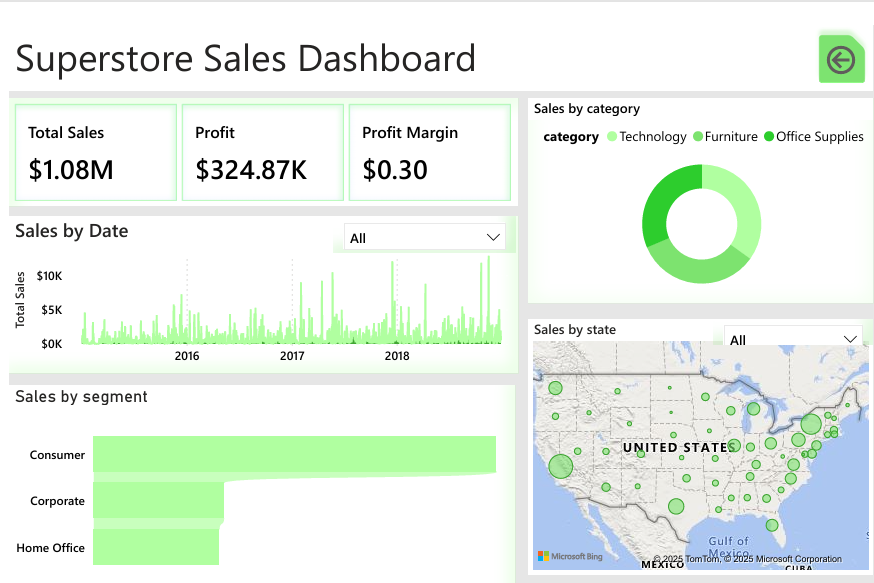

This screenshot's page, from the dashboard's own definition file:
{"tool":"powerbi","page":{"name":"Sales Analysis","canvas":[1280,720],"ordinal":0},"visuals":[{"type":"cardVisual","fields":{"Data":["Measuretable.Total Sales","Measuretable.Profit","Measuretable.Profit Margin"]},"box":[0,73.3,508.9,107.8],"z":0},{"type":"lineChart","title":"Sales by Date","fields":{"Y":["Measuretable.Total Sales"],"Category":["DateTable.Date"]},"box":[0,191.2,508.8,156.2],"z":1000},{"type":"barChart","title":" Sales by segment","fields":{"Y":["Measuretable.Total Sales"],"Category":["storedata.segment"]},"box":[0,360,505.6,227.8],"z":2000},{"type":"donutChart","title":"Sales by category","fields":{"Category":["storedata.category"],"Y":["Measuretable.Total Sales"]},"box":[518.9,73.3,345.6,204.4],"z":3000},{"type":"map","title":"Sales by state","fields":{"Category":["storedata.state"],"Size":["Measuretable.Total Sales"]},"box":[518.9,294.4,345.6,255.6],"z":4000},{"type":"textbox","box":[0,0,863.6,65.9],"z":7000},{"type":"shape","box":[800,0,63.6,65.9],"z":8002},{"type":"actionButton","box":[812.2,14.4,37.8,40],"z":8502},{"type":"slicer","fields":{"Values":["DateTable.Date.Variation.Date Hierarchy.Year","DateTable.Date.Variation.Date Hierarchy.Quarter","DateTable.Date.Variation.Date Hierarchy.Month","DateTable.Date.Variation.Date Hierarchy.Day"]},"box":[324.4,191.1,181.1,35.6],"z":9002},{"type":"slicer","fields":{"Values":["storedata.region","storedata.category"]},"box":[704.4,294.4,158.9,24.4],"z":9003}]}

Visuals, with their boxes on the page's 1280x720 design canvas (x1, y1, x2, y2). These are canvas units, not pixel positions in the 874x583 screenshot, which may show the page scaled, cropped or inside an application window:
cardVisual - Measuretable.Total Sales x Measuretable.Profit: {"x1": 0, "y1": 73, "x2": 509, "y2": 181}
"Sales by Date" lineChart: {"x1": 0, "y1": 191, "x2": 509, "y2": 347}
" Sales by segment" barChart: {"x1": 0, "y1": 360, "x2": 506, "y2": 588}
"Sales by category" donutChart: {"x1": 519, "y1": 73, "x2": 864, "y2": 278}
"Sales by state" map: {"x1": 519, "y1": 294, "x2": 864, "y2": 550}
textbox: {"x1": 0, "y1": 0, "x2": 864, "y2": 66}
shape: {"x1": 800, "y1": 0, "x2": 864, "y2": 66}
actionButton: {"x1": 812, "y1": 14, "x2": 850, "y2": 54}
slicer - DateTable.Date.Variation.Date Hierarchy.Year x DateTable.Date.Variation.Date Hierarchy.Quarter: {"x1": 324, "y1": 191, "x2": 506, "y2": 227}
slicer - storedata.region x storedata.category: {"x1": 704, "y1": 294, "x2": 863, "y2": 319}
